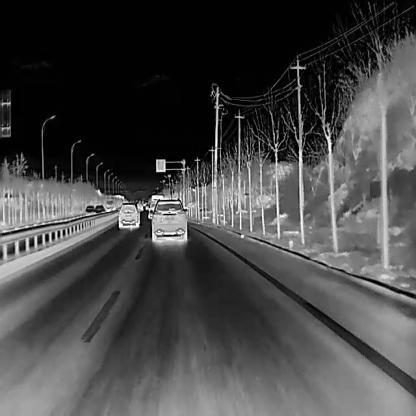car: (149, 197, 188, 245), (117, 202, 139, 229), (93, 203, 105, 218), (147, 202, 156, 219), (150, 194, 165, 203), (84, 203, 94, 216), (105, 199, 113, 211), (136, 202, 144, 212), (144, 203, 149, 211)
